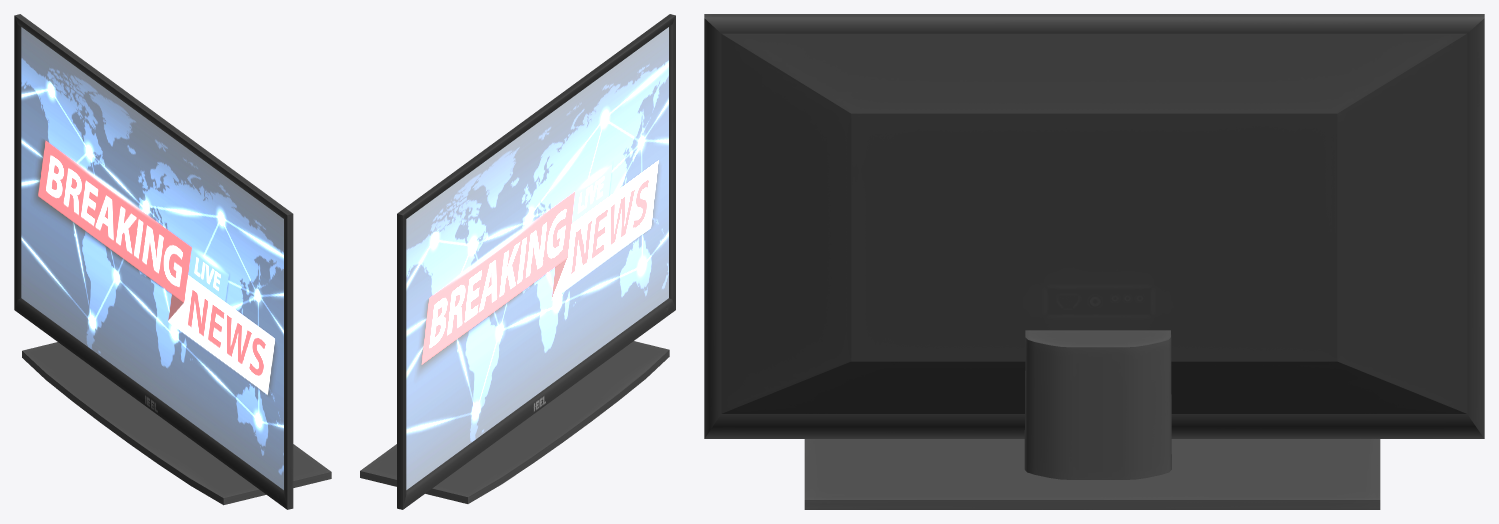
3 views of the same model, side by side, from view 1: azimuth 30°, elevation 25°; view 2: azimuth 150°, elevation 25°; view 3: azimuth 270°, elevation 25° (orthographic). The views are drawn at different scales.
Visible parts, largest first — view 1: SM_TV_A1; view 2: SM_TV_A1; view 3: SM_TV_A1.
Part boxes in pixels (x1=…): SM_TV_A1: x1=14, y1=14, x2=331, y2=509; SM_TV_A1: x1=360, y1=14, x2=675, y2=509; SM_TV_A1: x1=704, y1=14, x2=1484, y2=509.
Size of the model in its own units: 29.54 by 121 by 75.14.
2 materials, 1 textured.
